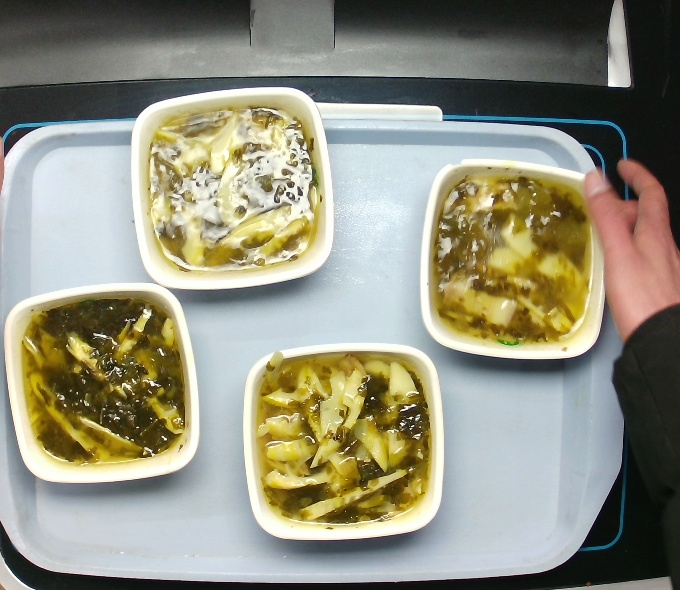wcq-DongSunTang: (246, 345, 438, 533), (139, 93, 327, 277), (426, 163, 601, 353), (11, 290, 192, 471)
